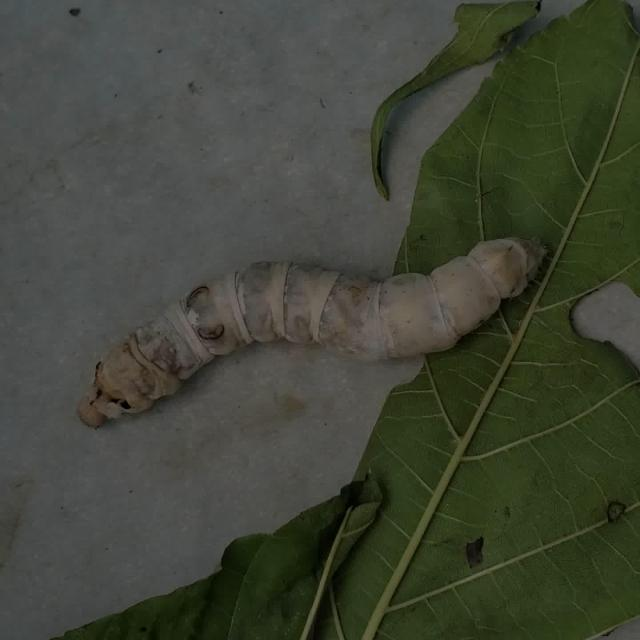Grasserie: (62, 189, 571, 457)
